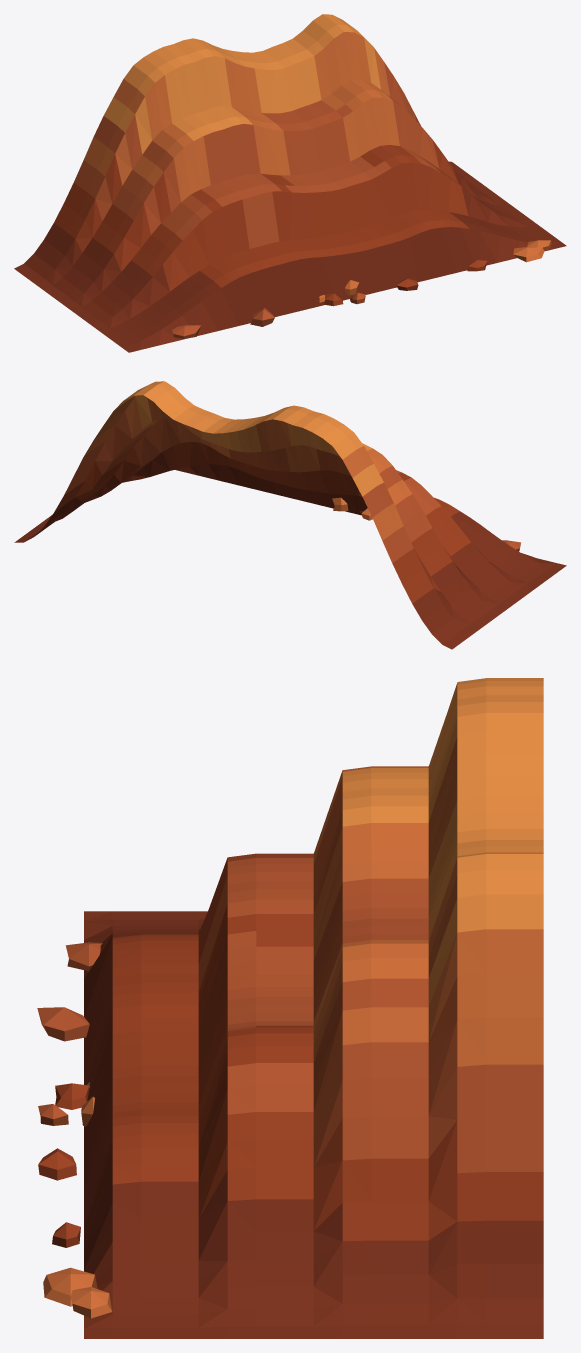
File: W5_Mid_CanyonWall_A.fbx
3 renders of one model, top to bottom at view 1: azimuth 30°, elevation 25°; view 2: azimuth 150°, elevation 25°; view 3: azimuth 270°, elevation 25°, orthographic. The views are drawn at different scales.
Parts seen in each view (by area): view 1: W5_Mid_CanyonWall_A; view 2: W5_Mid_CanyonWall_A; view 3: W5_Mid_CanyonWall_A.
Boxes of the visible parts, x1,y1,x2,y2 form: W5_Mid_CanyonWall_A: (14, 14, 566, 352); W5_Mid_CanyonWall_A: (14, 381, 566, 649); W5_Mid_CanyonWall_A: (37, 678, 543, 1338).
Size of the model in its own units: 132 by 53.9 by 66.07.
